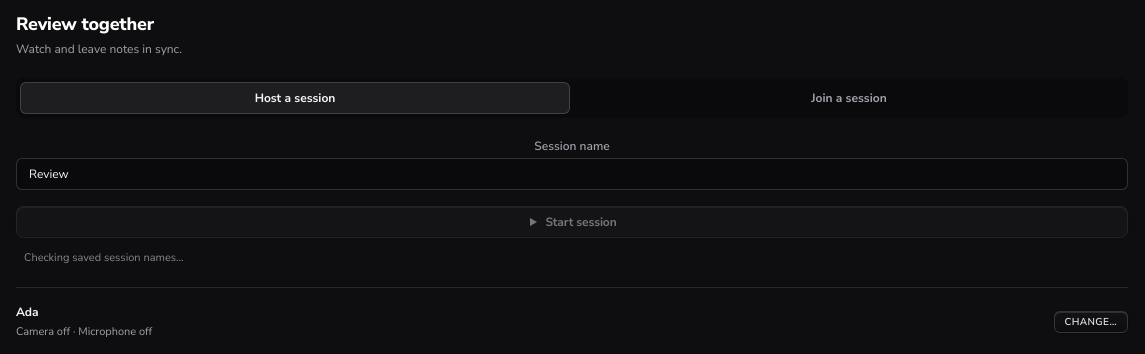
Test: session names › does not overwrite typing when history hydration completes late
Type "My new title" into the field labelled "Session name" at (572, 174), box [16,158,1128,190]
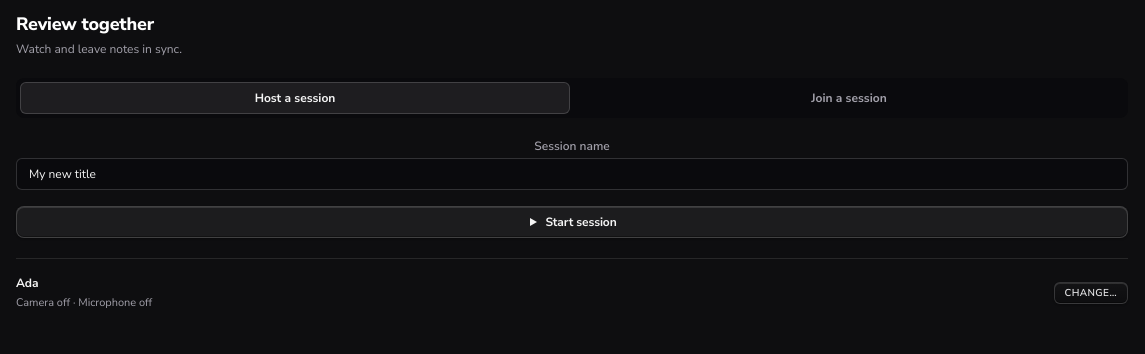
Check: the button "Start session" is enabled, box [16,206,1128,238]
